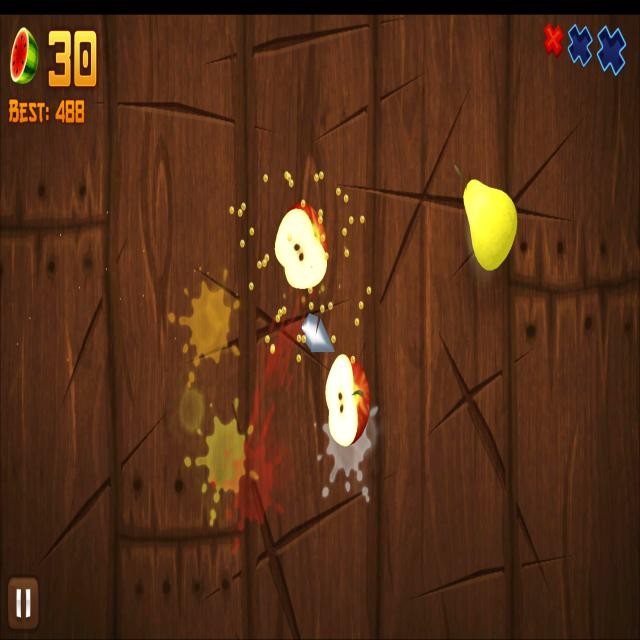fruit: (463, 179, 517, 270)
